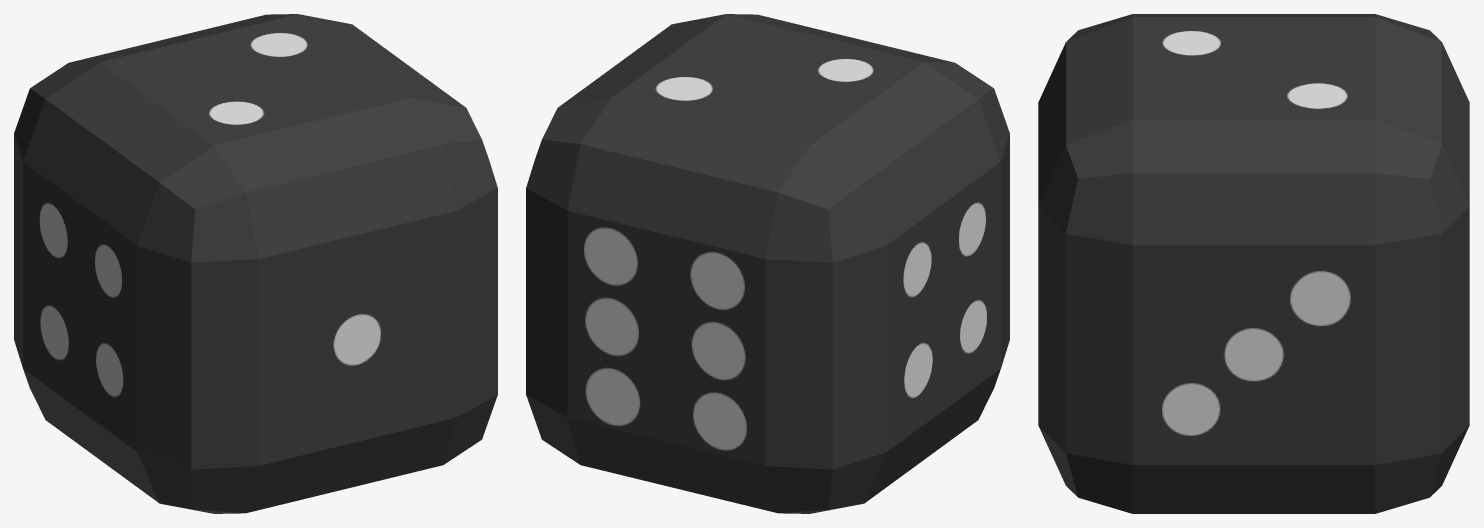
File: dice.glb
The picture shows the model from 3 angles, left to right: view 1: azimuth 30°, elevation 25°; view 2: azimuth 150°, elevation 25°; view 3: azimuth 270°, elevation 25°; orthographic projection. The views are drawn at different scales.
Visible parts, largest first — view 1: dice_black; view 2: dice_black; view 3: dice_black.
Boxes of the visible parts, x1,y1,x2,y2 form: dice_black: [14, 14, 497, 513]; dice_black: [526, 14, 1009, 513]; dice_black: [1038, 14, 1469, 513].
Bounding box in the file's own units: 2 × 2 × 2.
1 material, 1 textured.
